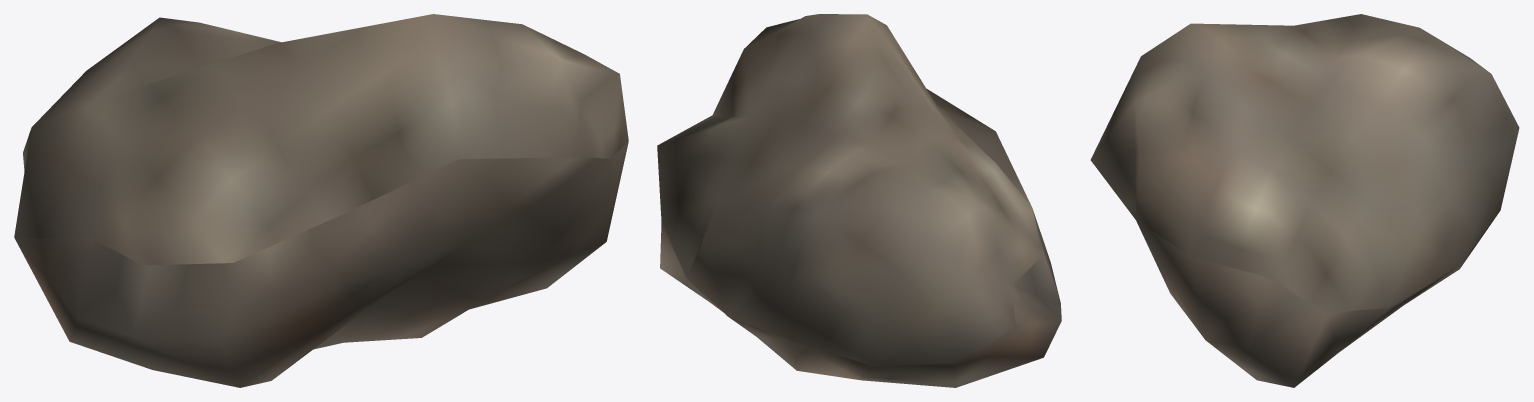
Rendered from rock_Small.fbx.
3 views of the same model, side by side, from view 1: azimuth 30°, elevation 25°; view 2: azimuth 150°, elevation 25°; view 3: azimuth 270°, elevation 25° (orthographic). The views are drawn at different scales.
Visible parts, largest first — view 1: rock_Small; view 2: rock_Small; view 3: rock_Small.
Part boxes in pixels (bbox=[...]): rock_Small: bbox=[14, 14, 628, 387]; rock_Small: bbox=[657, 14, 1061, 387]; rock_Small: bbox=[1090, 14, 1519, 387].
Bounding box in the file's own units: 91.25 × 62.1 × 75.15.
Materials: 1 (1 with a texture image).
